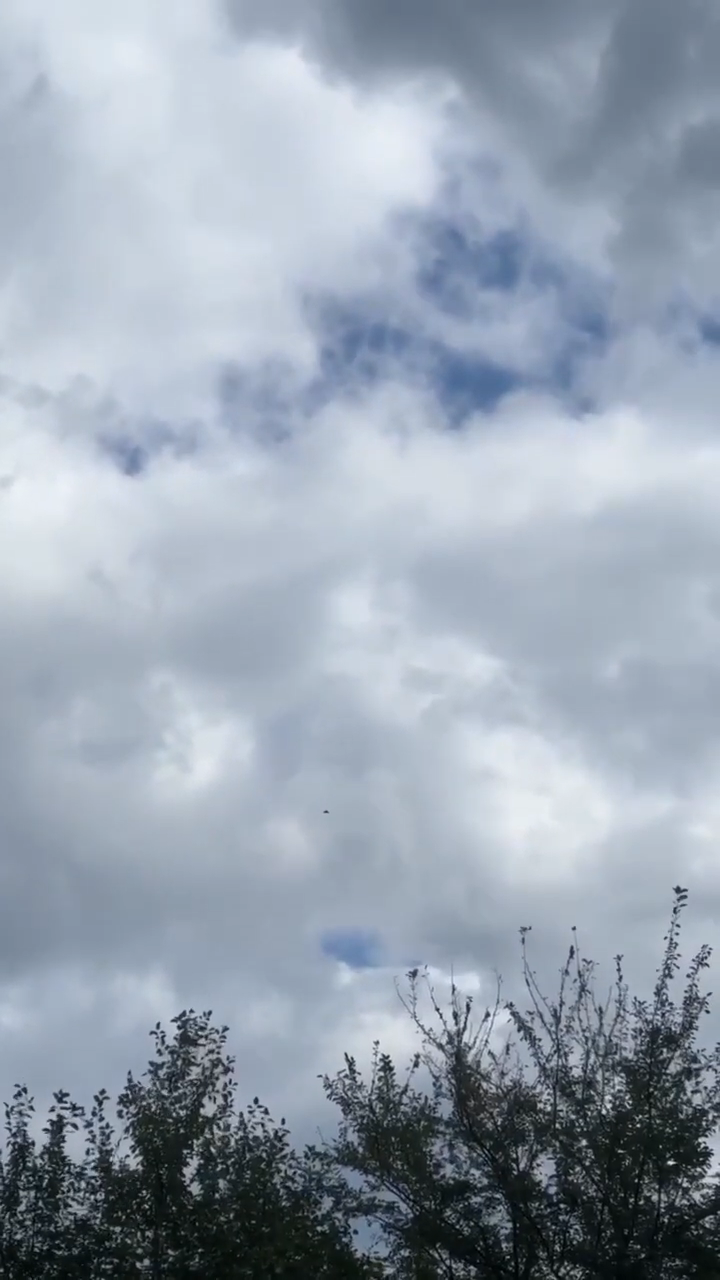shahed: (322, 808, 331, 815)
